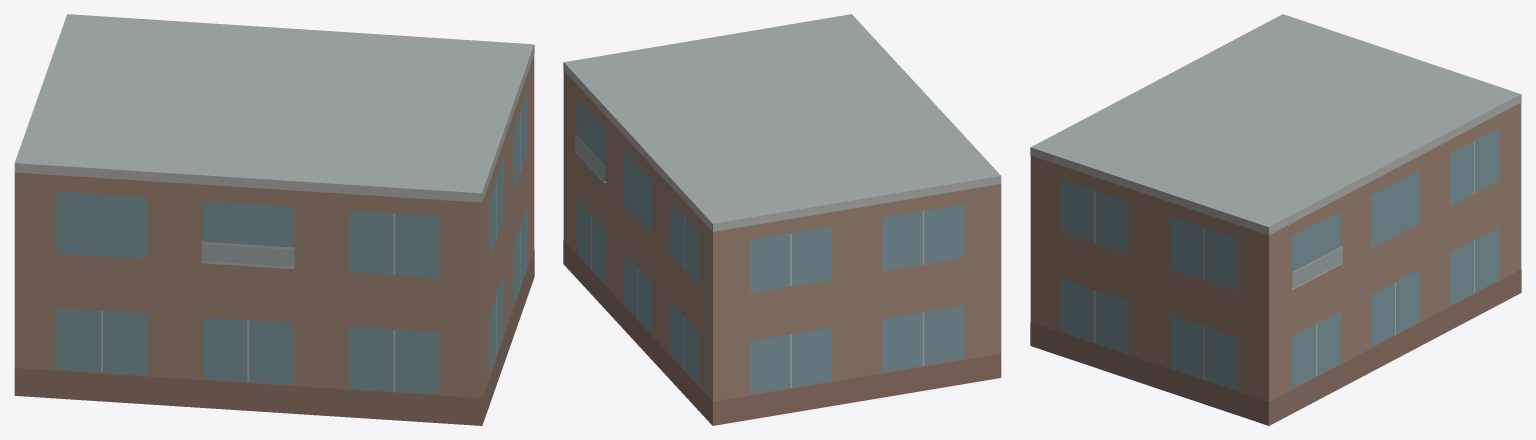
Rendered from survey-upis-32807164.glb.
3 renders of one model, left to right at view 1: azimuth 30°, elevation 25°; view 2: azimuth 150°, elevation 25°; view 3: azimuth 270°, elevation 25°, orthographic. The views are drawn at different scales.
Parts seen in each view (by area): view 1: survey-upis-32807164.tmp; view 2: survey-upis-32807164.tmp; view 3: survey-upis-32807164.tmp.
Boxes of the visible parts, left/top/right/bottom form: survey-upis-32807164.tmp: left=14, top=14, right=534, bottom=425; survey-upis-32807164.tmp: left=563, top=14, right=1001, bottom=425; survey-upis-32807164.tmp: left=1030, top=14, right=1521, bottom=425.
Bounding box in the file's own units: 14.06 × 6.1 × 13.68.
